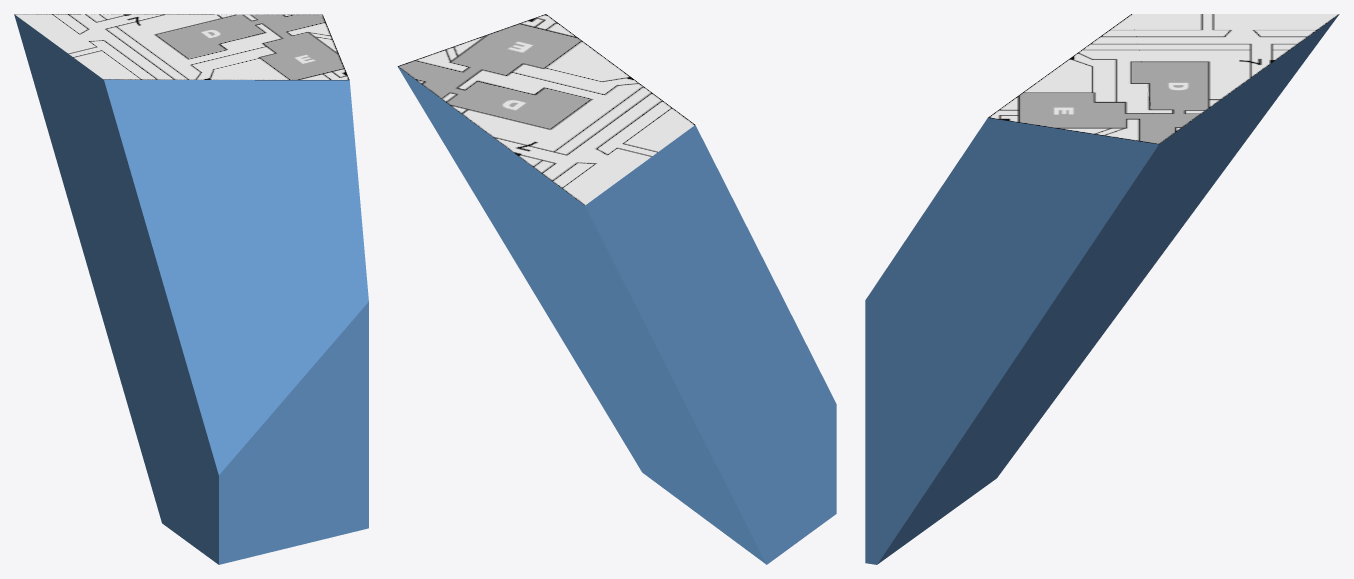
The model's file is Left_B1.glb.
3 views of the same model, side by side, from view 1: azimuth 30°, elevation 25°; view 2: azimuth 150°, elevation 25°; view 3: azimuth 270°, elevation 25° (orthographic). The views are drawn at different scales.
Parts seen in each view (by area): view 1: Left_B1; view 2: Left_B1; view 3: Left_B1.
Boxes of the visible parts, x1,y1,x2,y2 form: Left_B1: (14, 14, 368, 564); Left_B1: (397, 14, 836, 564); Left_B1: (865, 14, 1339, 564).
Bounding box in the file's own units: 2.11 × 3.51 × 3.25.
Materials: 2 (1 with a texture image).
